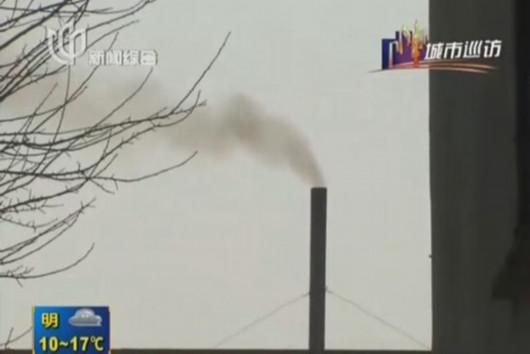dust: (229, 93, 338, 194)
